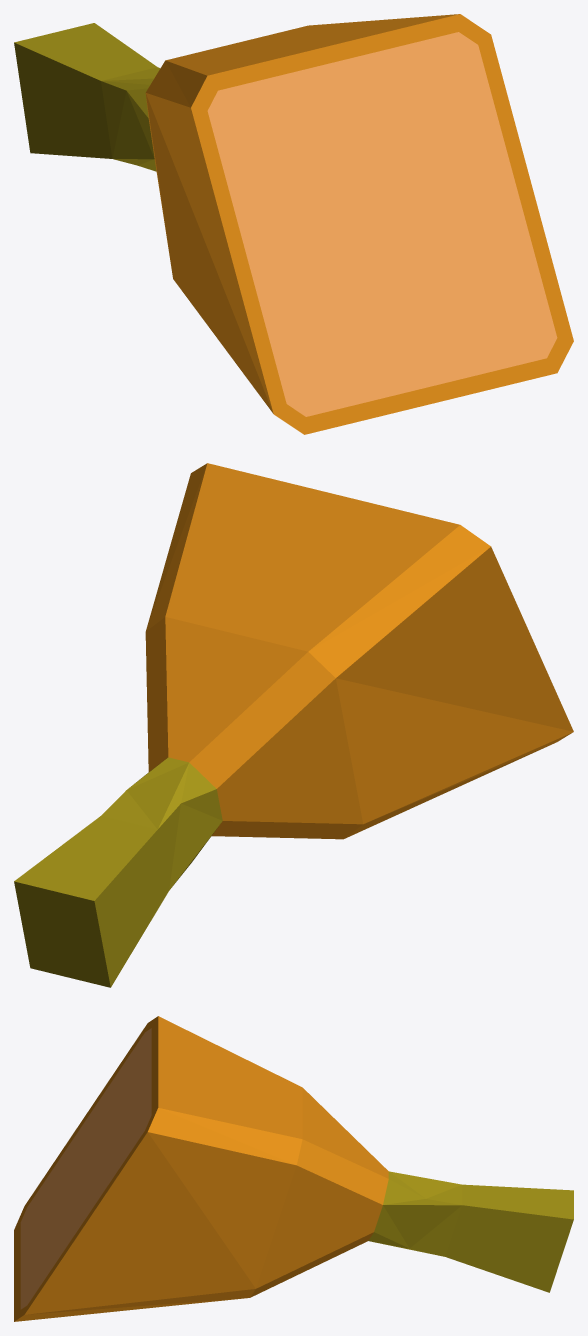
File: Banaan_Stuk2.FBX
3 renders of one model, top to bottom at view 1: azimuth 30°, elevation 25°; view 2: azimuth 150°, elevation 25°; view 3: azimuth 270°, elevation 25°, orthographic. The views are drawn at different scales.
Parts seen in each view (by area): view 1: Banaan_stuk1; view 2: Banaan_stuk1; view 3: Banaan_stuk1.
Boxes of the visible parts, <box> form: Banaan_stuk1: <box>14,14,573,434</box>; Banaan_stuk1: <box>14,463,573,987</box>; Banaan_stuk1: <box>14,1016,573,1321</box>.
Size of the model in its own units: 725 by 1577 by 673.
